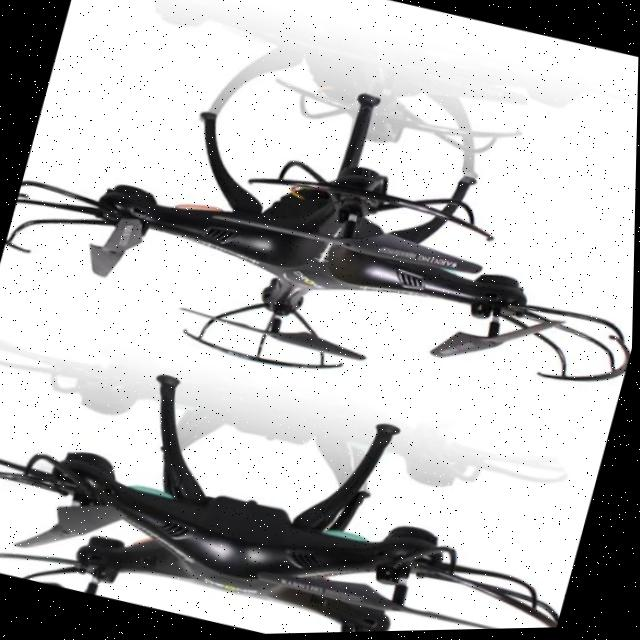drones: (0, 0, 640, 458), (0, 310, 605, 640)
